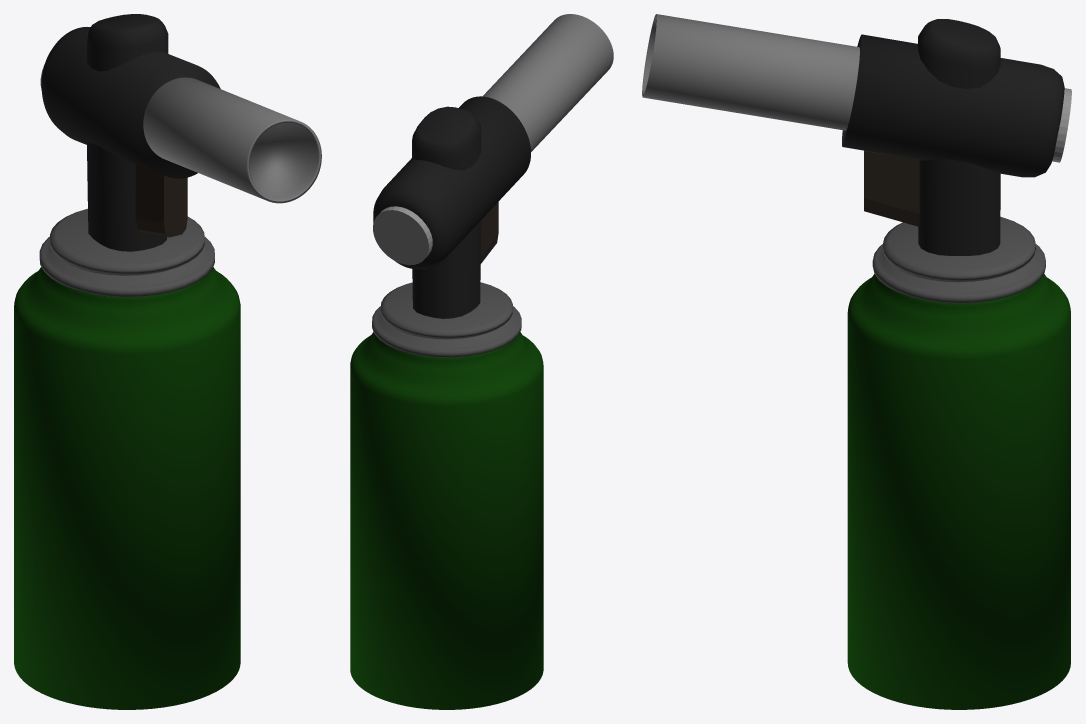
File: Dihlofos 1.fbx
The picture shows the model from 3 angles, left to right: view 1: azimuth 30°, elevation 25°; view 2: azimuth 150°, elevation 25°; view 3: azimuth 270°, elevation 25°; orthographic projection. The views are drawn at different scales.
Parts seen in each view (by area): view 1: Cylinder, Cylinder.001, Cylinder.002, Circle, Cube, Cube.001; view 2: Cylinder, Cylinder.002, Cylinder.001, Cube, Circle, Circle.001, Cube.001; view 3: Cylinder, Cylinder.002, Cylinder.001, Cube, Circle, Cube.001, Circle.001.
Boxes of the visible parts, x1,y1,x2,y2 form: Cylinder: (14,267,240,709); Cylinder.001: (143,77,321,203); Cylinder.002: (41,27,220,178); Circle: (39,208,214,297); Cube: (87,14,168,251); Cube.001: (135,164,187,237); Cylinder: (350,332,543,709); Cylinder.002: (373,96,530,269); Cylinder.001: (482,14,613,151); Cube: (412,106,481,318); Circle: (372,282,521,357); Circle.001: (373,206,432,265); Cube.001: (480,202,498,263); Cylinder: (847,274,1070,709); Cylinder.002: (842,34,1064,177); Cylinder.001: (642,14,859,130); Cube: (918,19,1000,255); Circle: (872,216,1045,303); Cube.001: (864,150,919,226); Circle.001: (1052,88,1071,162).
Size of the model in its own units: 200 by 637 by 385.
